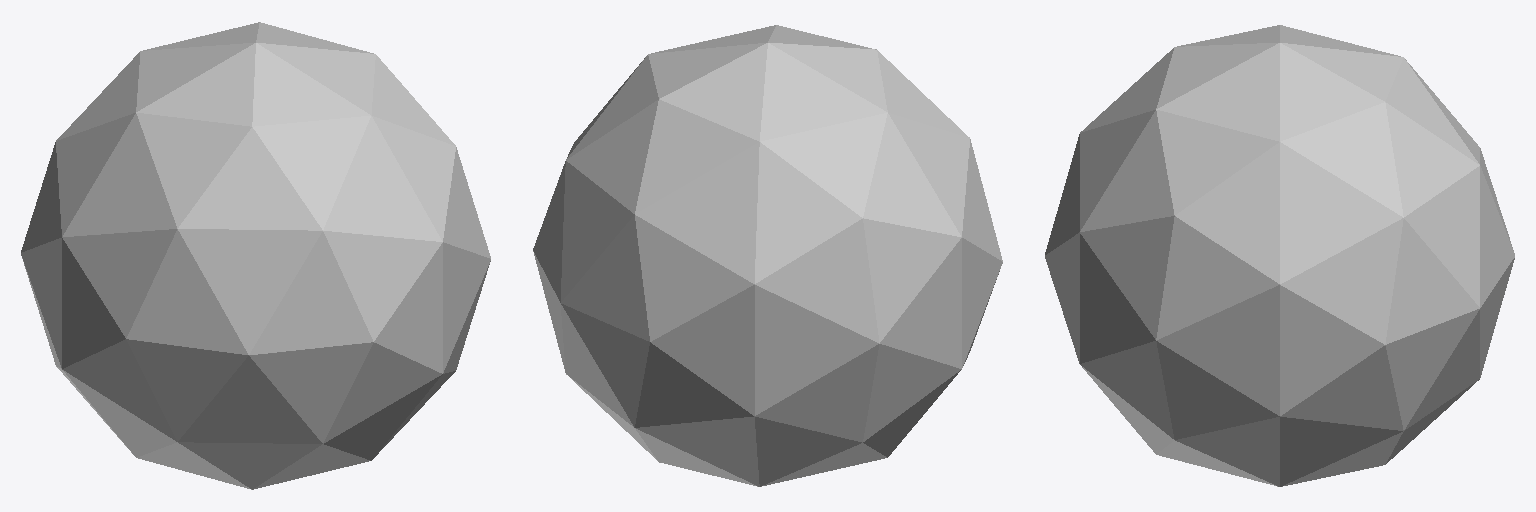
Rendered from lightBallForShading.obj.
The picture shows the model from 3 angles: view 1: azimuth 30°, elevation 25°; view 2: azimuth 150°, elevation 25°; view 3: azimuth 270°, elevation 25°; orthographic projection.
Parts seen in each view (by area): view 1: Icosphere; view 2: Icosphere; view 3: Icosphere.
Part boxes in pixels (x1,y1,x2,y2): Icosphere: (21,22,490,489); Icosphere: (533,25,1002,486); Icosphere: (1045,25,1514,486).
Size of the model in its own units: 2 by 2.1 by 2.1.